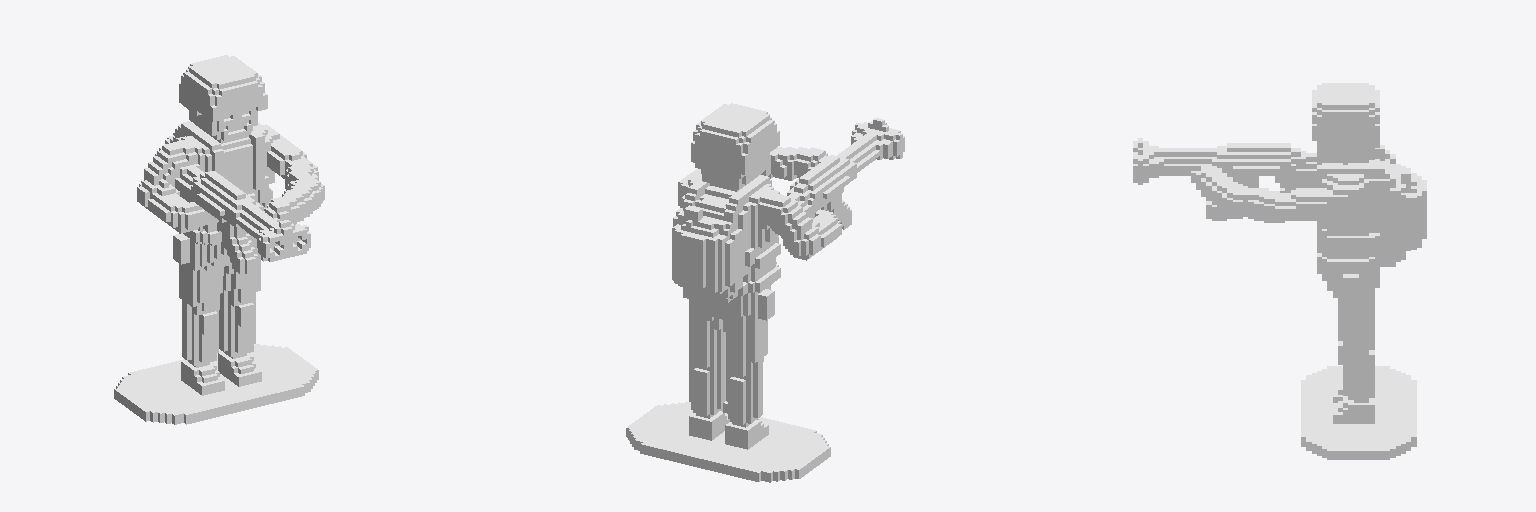
Rendered from soldier_ak47_LVL2.obj.
The picture shows the model from 3 angles: view 1: azimuth 30°, elevation 25°; view 2: azimuth 150°, elevation 25°; view 3: azimuth 270°, elevation 25°; orthographic projection.
Parts seen in each view (by area): view 1: object 1; view 2: object 1; view 3: object 1.
Boxes of the visible parts, x1=… form: object 1: x1=114, y1=55, x2=324, y2=424; object 1: x1=626, y1=103, x2=904, y2=482; object 1: x1=1133, y1=83, x2=1426, y2=459.
Size of the model in its own units: 3.8 by 6.8 by 5.6.